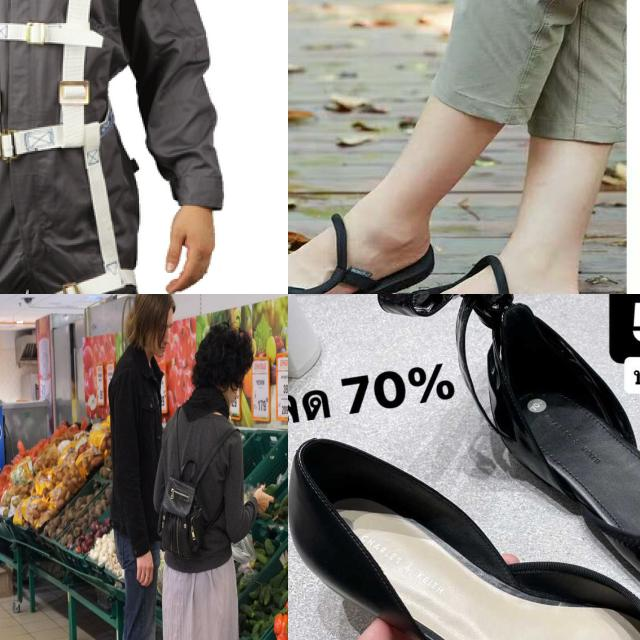Harness: (0, 0, 143, 294)
Sandals: (344, 294, 640, 640), (288, 410, 640, 640), (288, 162, 621, 294)
